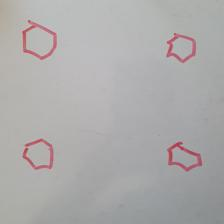simple-chemical-hexagon: (21, 20, 57, 60), (167, 141, 202, 173), (22, 138, 54, 170), (165, 32, 196, 63)
